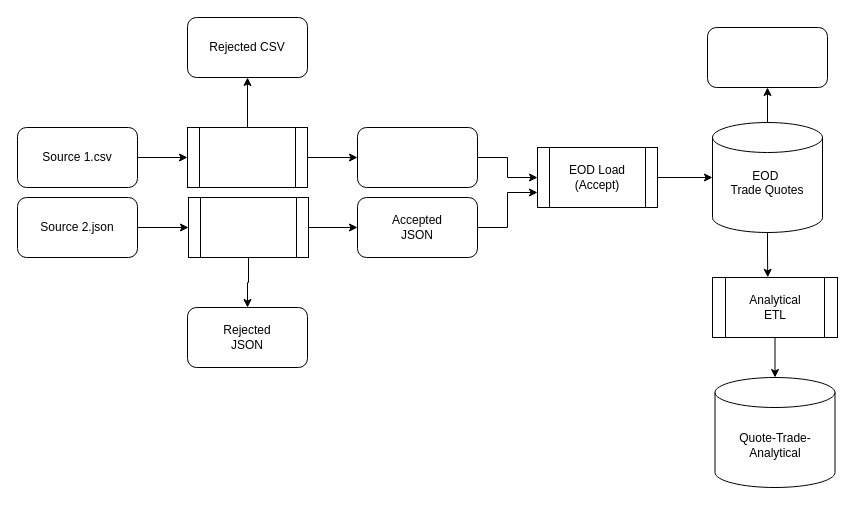
This 855x505 diagram has some shape labels left out. Here are the shapes that lost their labels. From the top down, the centre of each, then its label:
At (x=767, y=57): "Rejected Files".
At (x=247, y=157): "Ingestion (CSV)".
At (x=417, y=157): "Accepted CSV".
At (x=248, y=227): "Ingestion (JSON)".
